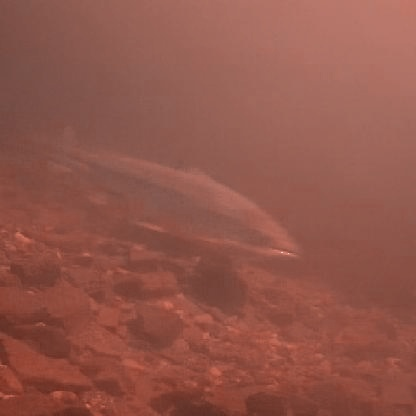salmon: (51, 125, 304, 262)
